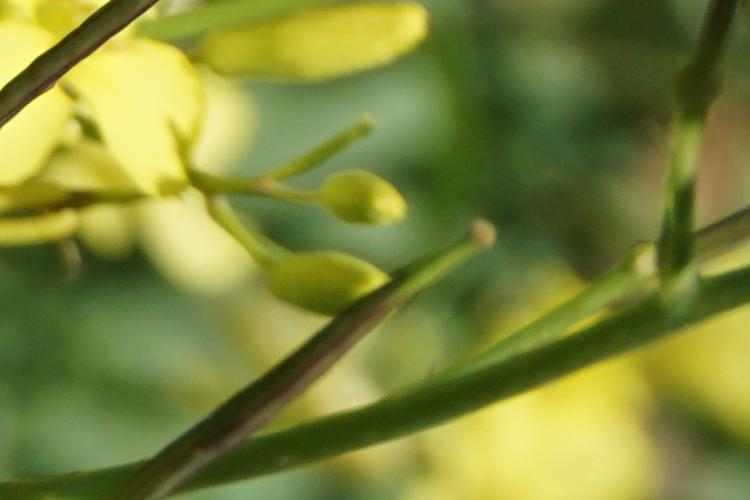bud: (199, 8, 446, 88), (252, 239, 390, 336), (297, 161, 412, 237)
pod: (241, 210, 507, 404)
yellow: (2, 5, 220, 230)
